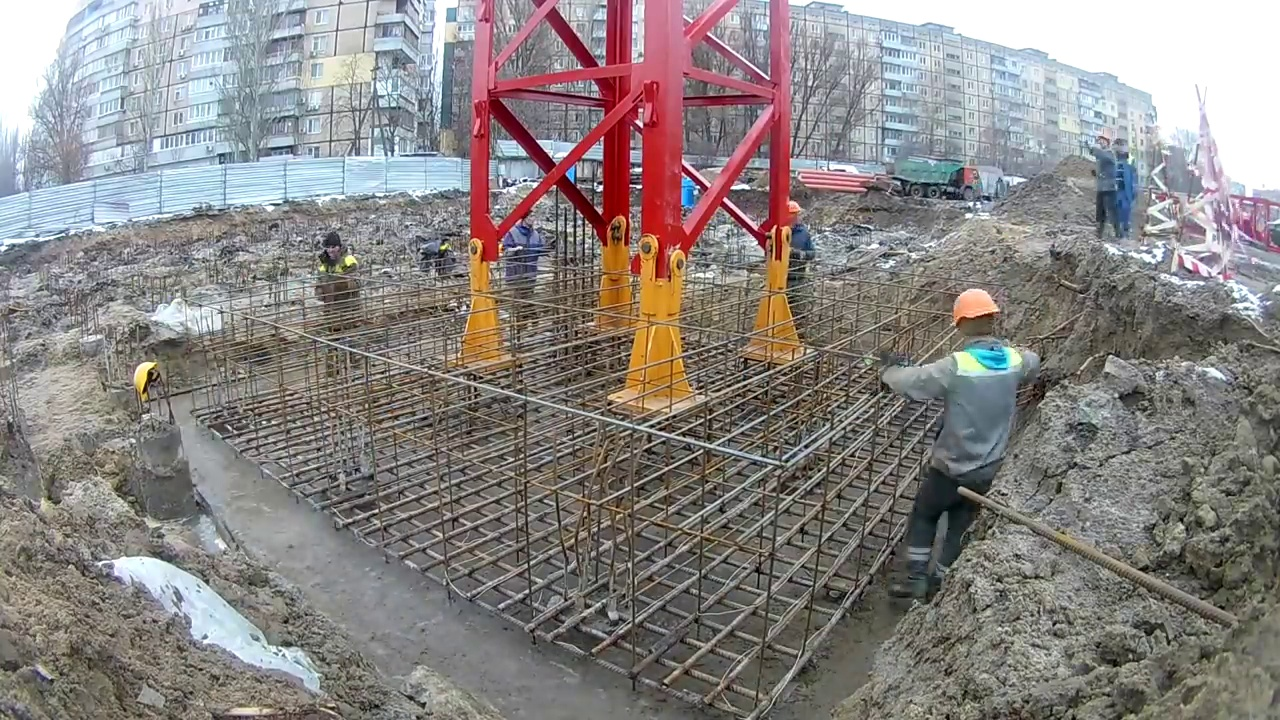helmet: (950, 288, 1002, 326), (133, 359, 160, 403), (788, 201, 801, 214), (1097, 134, 1112, 144)
helmet-off: (322, 234, 344, 270), (520, 212, 537, 236)
helmet-on: (949, 285, 1005, 348), (1094, 131, 1114, 153), (787, 201, 802, 227)
person: (873, 288, 1035, 592), (1088, 132, 1124, 242), (506, 211, 551, 299), (313, 232, 361, 305), (784, 201, 815, 282), (1114, 143, 1136, 240)
